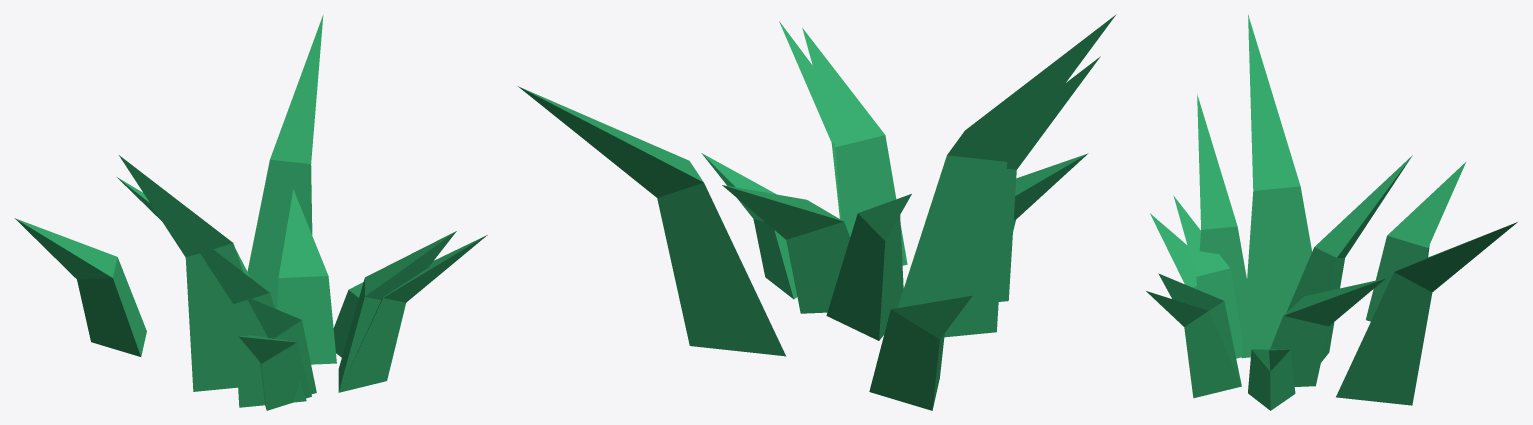
Rendered from grass.fbx.
3 views of the same model, side by side, from view 1: azimuth 30°, elevation 25°; view 2: azimuth 150°, elevation 25°; view 3: azimuth 270°, elevation 25° (orthographic). The views are drawn at different scales.
Parts seen in each view (by area): view 1: grass4, grass3, grass1, grass2; view 2: grass4, grass1, grass3, grass2; view 3: grass4, grass1, grass3, grass2.
Part boxes in pixels (<box>): grass4: <box>14,15,323,391</box>; grass3: <box>182,189,336,407</box>; grass1: <box>117,177,487,410</box>; grass2: <box>246,231,456,394</box>; grass4: <box>518,14,1116,410</box>; grass1: <box>701,21,1088,340</box>; grass3: <box>722,56,1100,313</box>; grass2: <box>802,27,907,265</box>; grass4: <box>1241,14,1517,405</box>; grass1: <box>1146,155,1412,410</box>; grass3: <box>1197,94,1385,386</box>; grass2: <box>1158,195,1242,384</box>.
Bounding box in the file's own units: 197 × 147 × 187.
